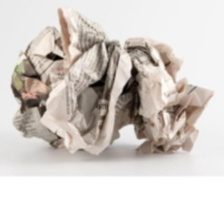news_paper: (6, 5, 216, 158)
